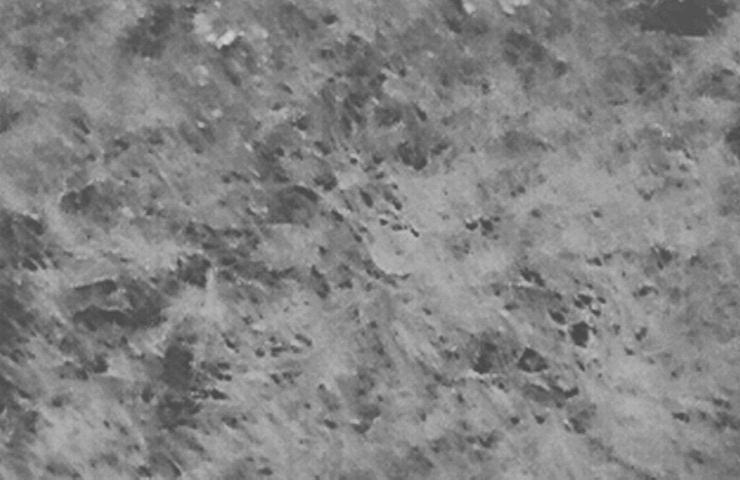landmines: (367, 219, 431, 280)
